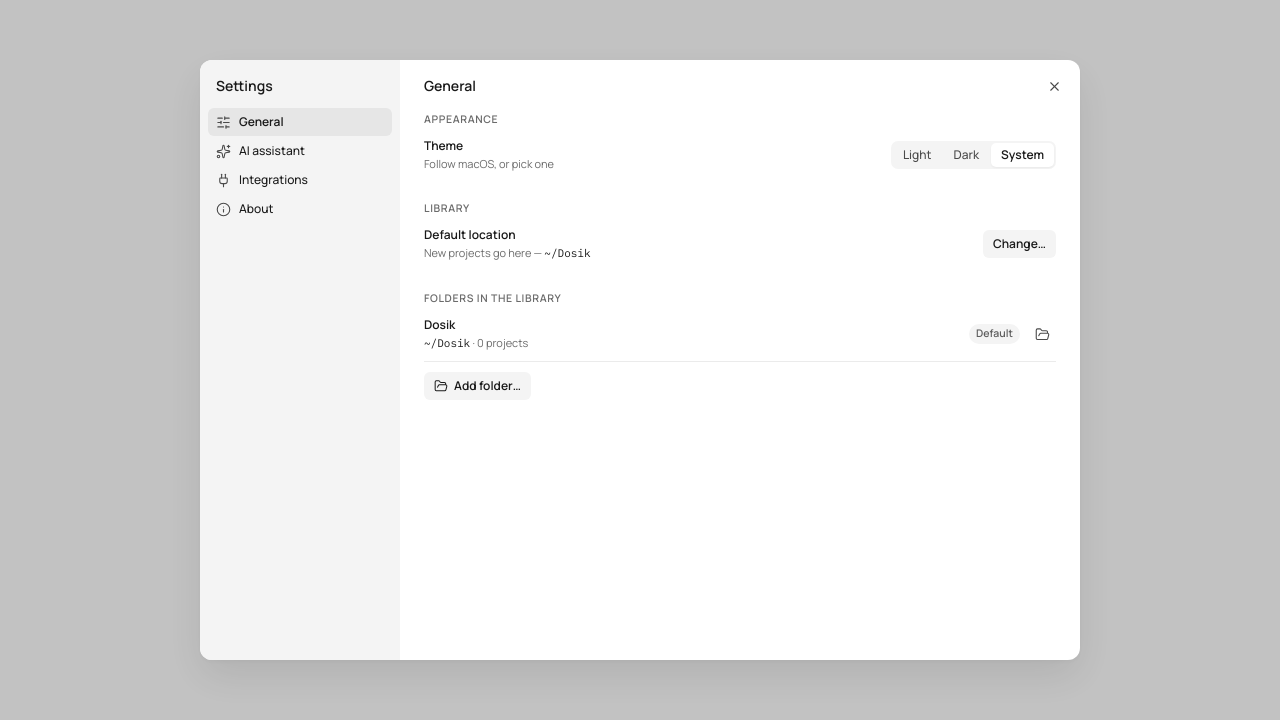
Settings dialog (#252) › the side list switches the section
Click the button "About".
click(300, 209)  # box [208, 195, 392, 223]
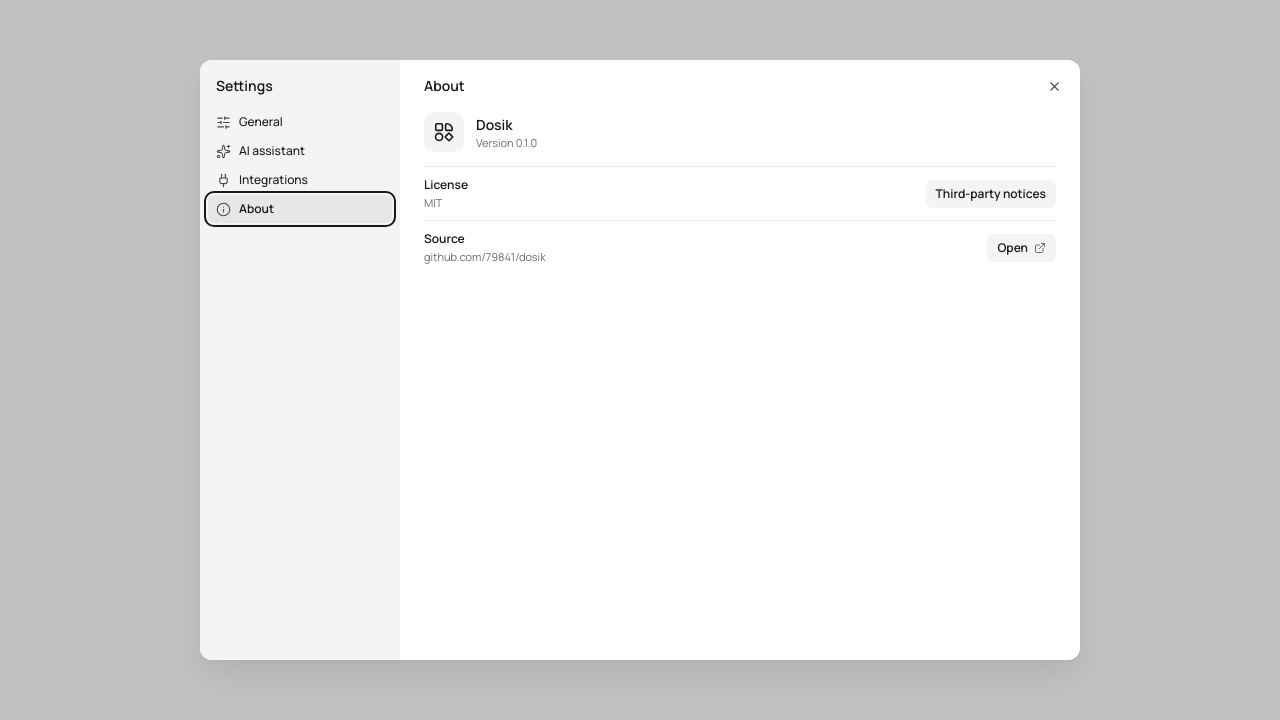
Expected: the heading "About" is shown, [424, 76, 465, 95]
